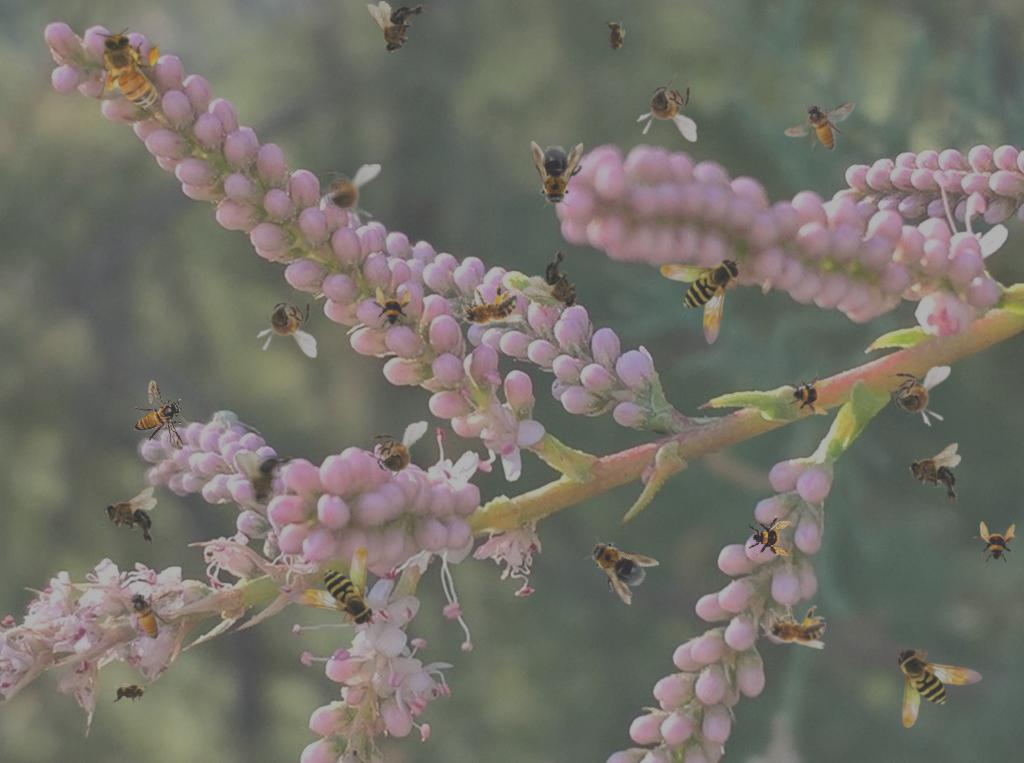Bee: (287, 546, 375, 628), (660, 257, 742, 345), (895, 646, 983, 728), (574, 525, 660, 607), (519, 243, 600, 325), (95, 27, 163, 120), (358, 420, 437, 492), (448, 276, 524, 339), (311, 164, 381, 225), (256, 288, 317, 358), (636, 72, 697, 142), (881, 366, 951, 427), (784, 101, 855, 151), (134, 380, 184, 451), (108, 590, 179, 640), (531, 141, 583, 209), (104, 486, 157, 548), (367, 1, 429, 54), (908, 443, 961, 505), (235, 451, 297, 504), (760, 604, 826, 649), (786, 370, 834, 418), (748, 514, 792, 558), (369, 286, 413, 330), (973, 521, 1017, 565), (604, 17, 626, 57), (110, 682, 150, 704)
